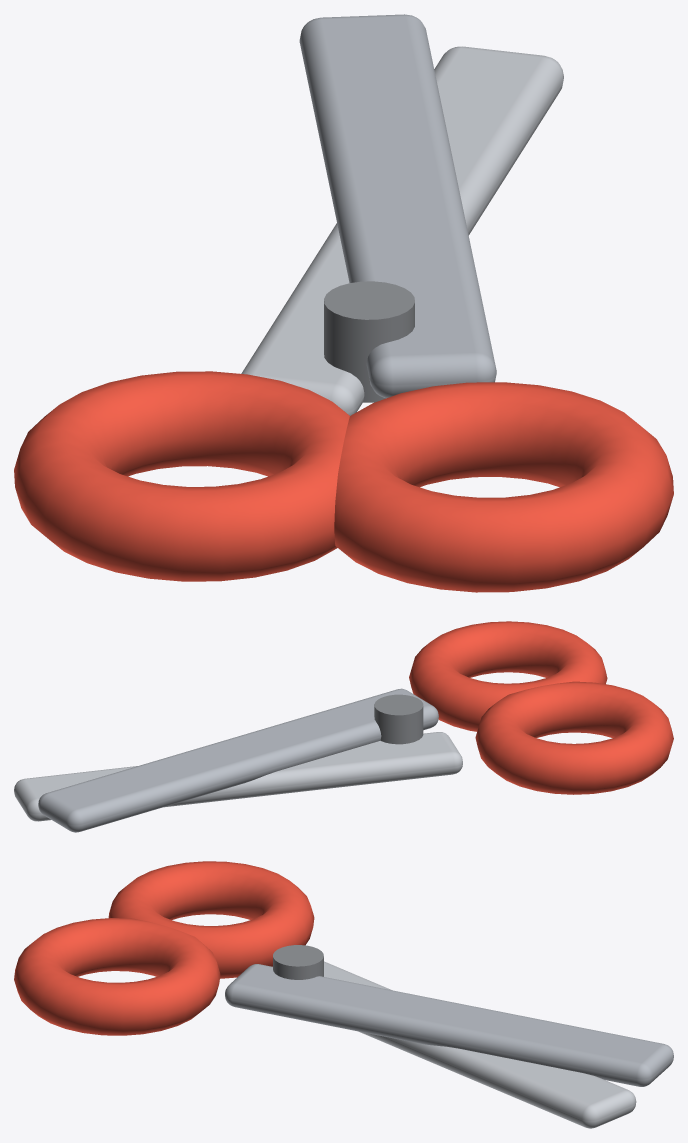
The model's file is herramienta_tijeras.glb.
3 renders of one model, top to bottom at view 1: azimuth 30°, elevation 25°; view 2: azimuth 150°, elevation 25°; view 3: azimuth 270°, elevation 25°, orthographic. The views are drawn at different scales.
Visible parts, largest first — view 1: Mango (×2), Hoja [hoja_b], Hoja [hoja_a], Tornillo; view 2: Mango (×2), Hoja [hoja_b], Hoja [hoja_a], Tornillo; view 3: Mango (×2), Hoja [hoja_b], Hoja [hoja_a], Tornillo.
Boxes of the visible parts, x1=… form: Mango (×2): x1=14, y1=371, x2=673, y2=592; Hoja [hoja_b]: x1=299, y1=14, x2=496, y2=398; Hoja [hoja_a]: x1=241, y1=46, x2=563, y2=415; Tornillo: x1=324, y1=281, x2=414, y2=402; Mango (×2): x1=409, y1=621, x2=673, y2=794; Hoja [hoja_b]: x1=38, y1=688, x2=438, y2=832; Hoja [hoja_a]: x1=14, y1=732, x2=462, y2=821; Tornillo: x1=374, y1=694, x2=423, y2=744; Mango (×2): x1=14, y1=861, x2=314, y2=1035; Hoja [hoja_b]: x1=225, y1=964, x2=673, y2=1086; Hoja [hoja_a]: x1=324, y1=961, x2=636, y2=1128; Tornillo: x1=273, y1=945, x2=323, y2=979.
Size of the model in its own units: 0.5438 by 0.061 by 0.6445.
